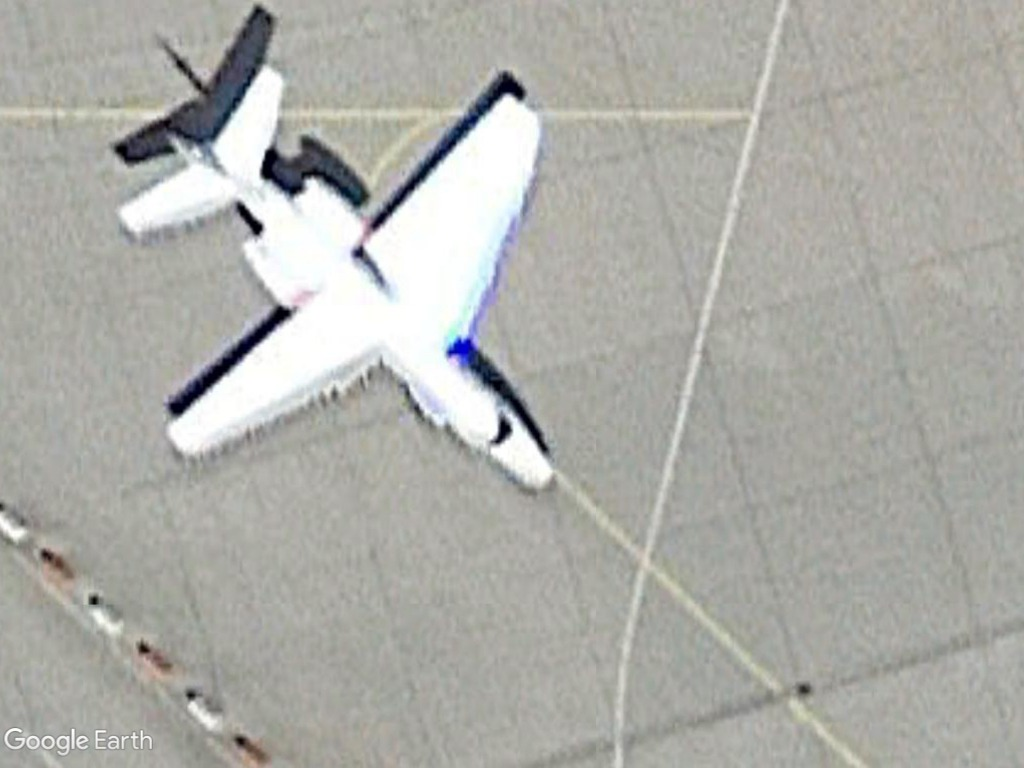chartered: (122, 63, 563, 504)
